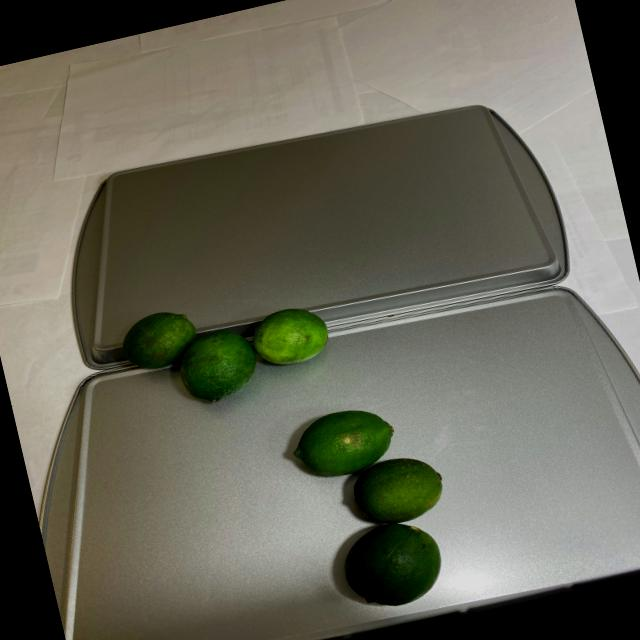lemon: (273, 376, 481, 624), (108, 273, 348, 426)
